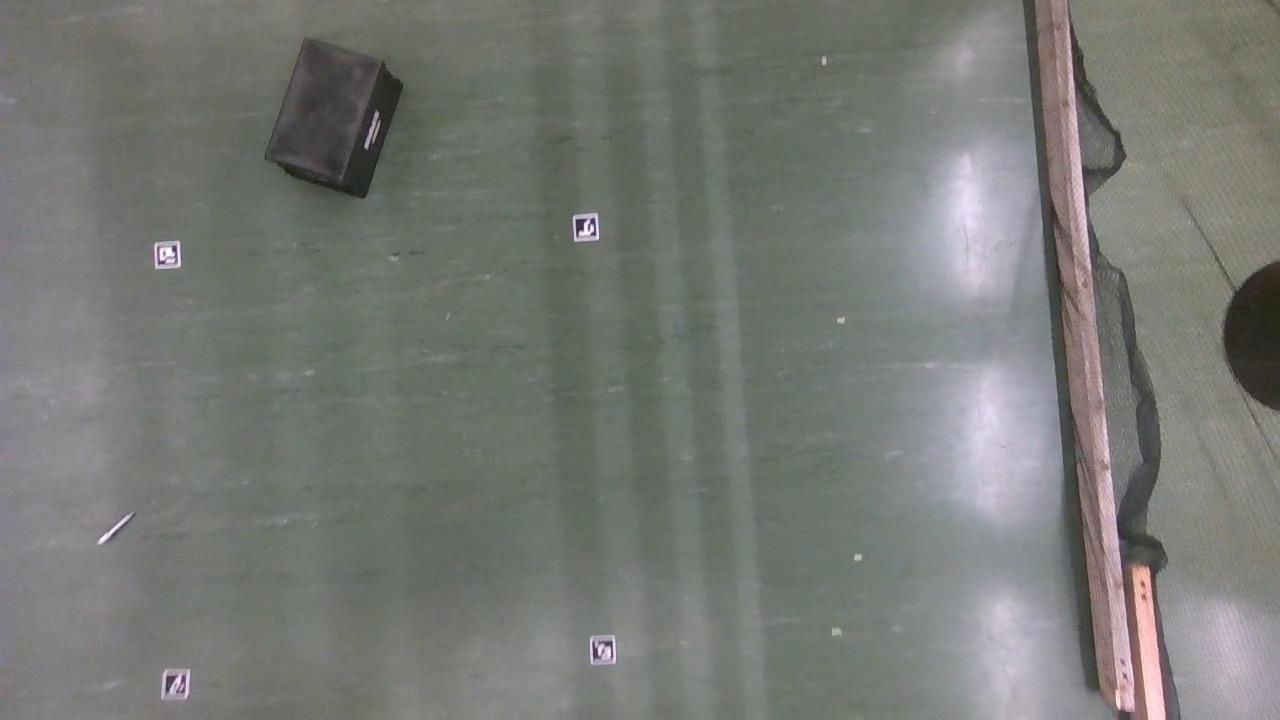probes: (96, 510, 134, 545)
rako: (264, 37, 404, 199)
